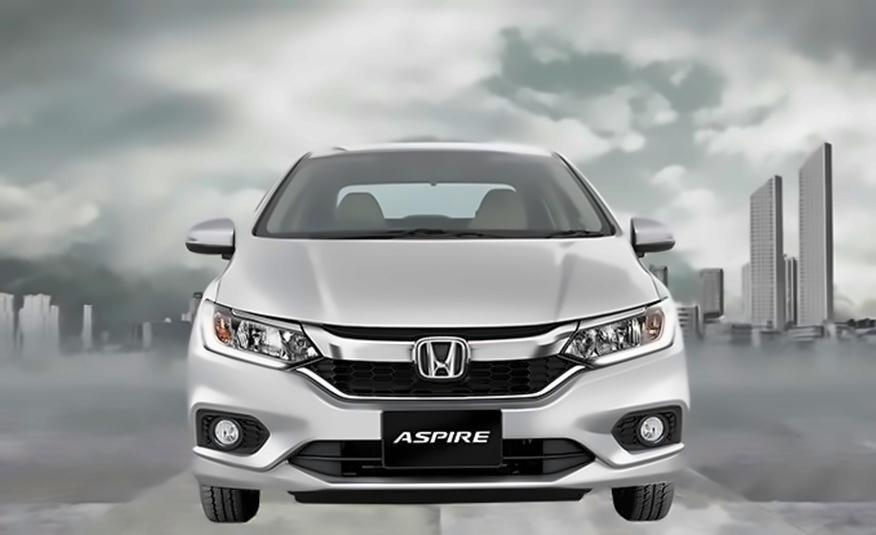Car hood: (216, 233, 668, 334)
Front bumper: (183, 356, 698, 503)
Headlight - -L-: (558, 294, 680, 373)
Headlight - -R-: (195, 293, 326, 373)
Side mirror - -L-: (623, 209, 687, 268)
Side mirror - -R-: (179, 212, 256, 271)
